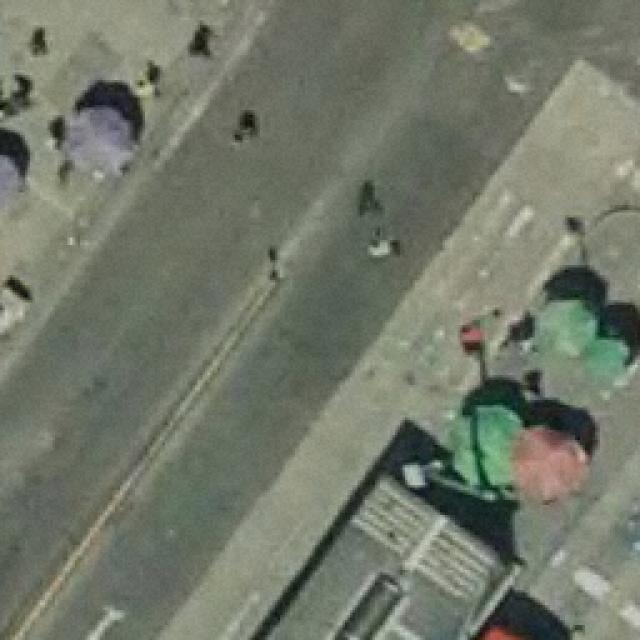vendedor_ambulante: (442, 397, 526, 493), (510, 421, 592, 512), (54, 101, 140, 184), (533, 291, 599, 365), (576, 320, 634, 390), (0, 145, 29, 225)
